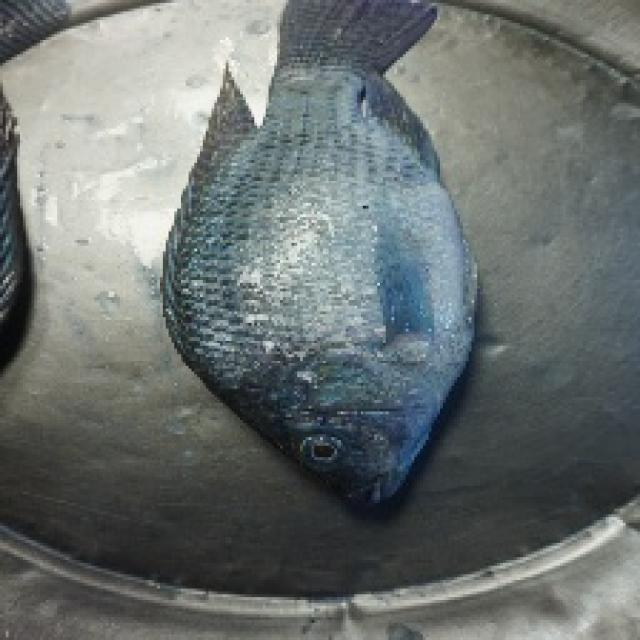Fresh: (179, 64, 502, 517)
